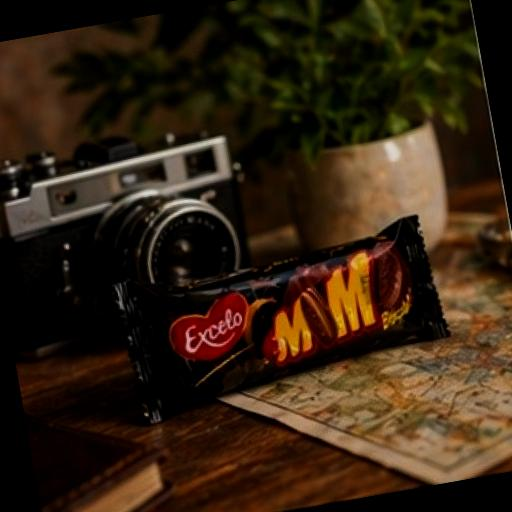MOMO: (88, 186, 468, 428)
